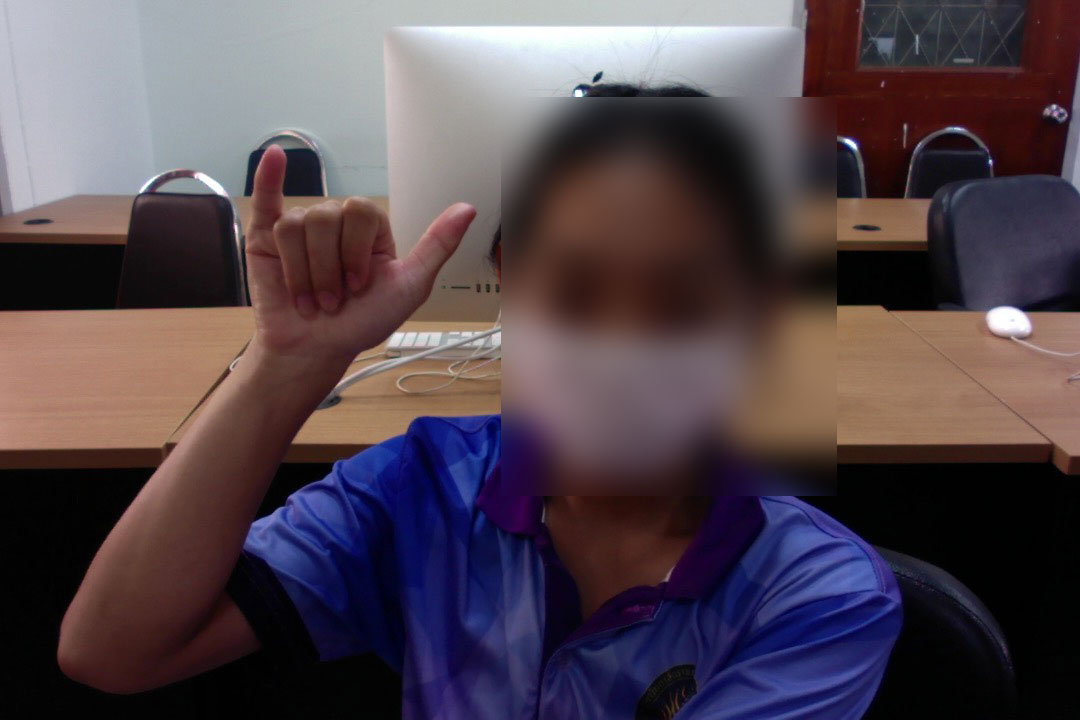yor: (234, 135, 482, 367)
